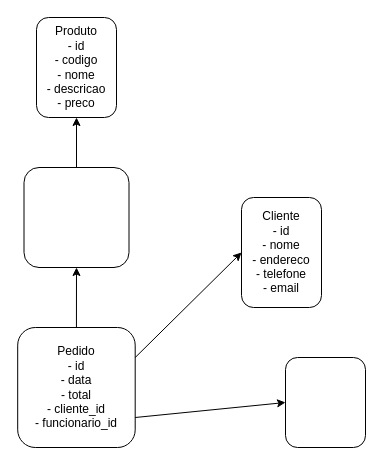
Image size: 383x465. Some labels were removed from this diagram. Here are the shapes that lost their labels. From the top down, the centre of each, then its label:
(76,217): pedido_produto - id - produto_id - pedido_id - quantidade
(325,402): Funcionario - id - nome
